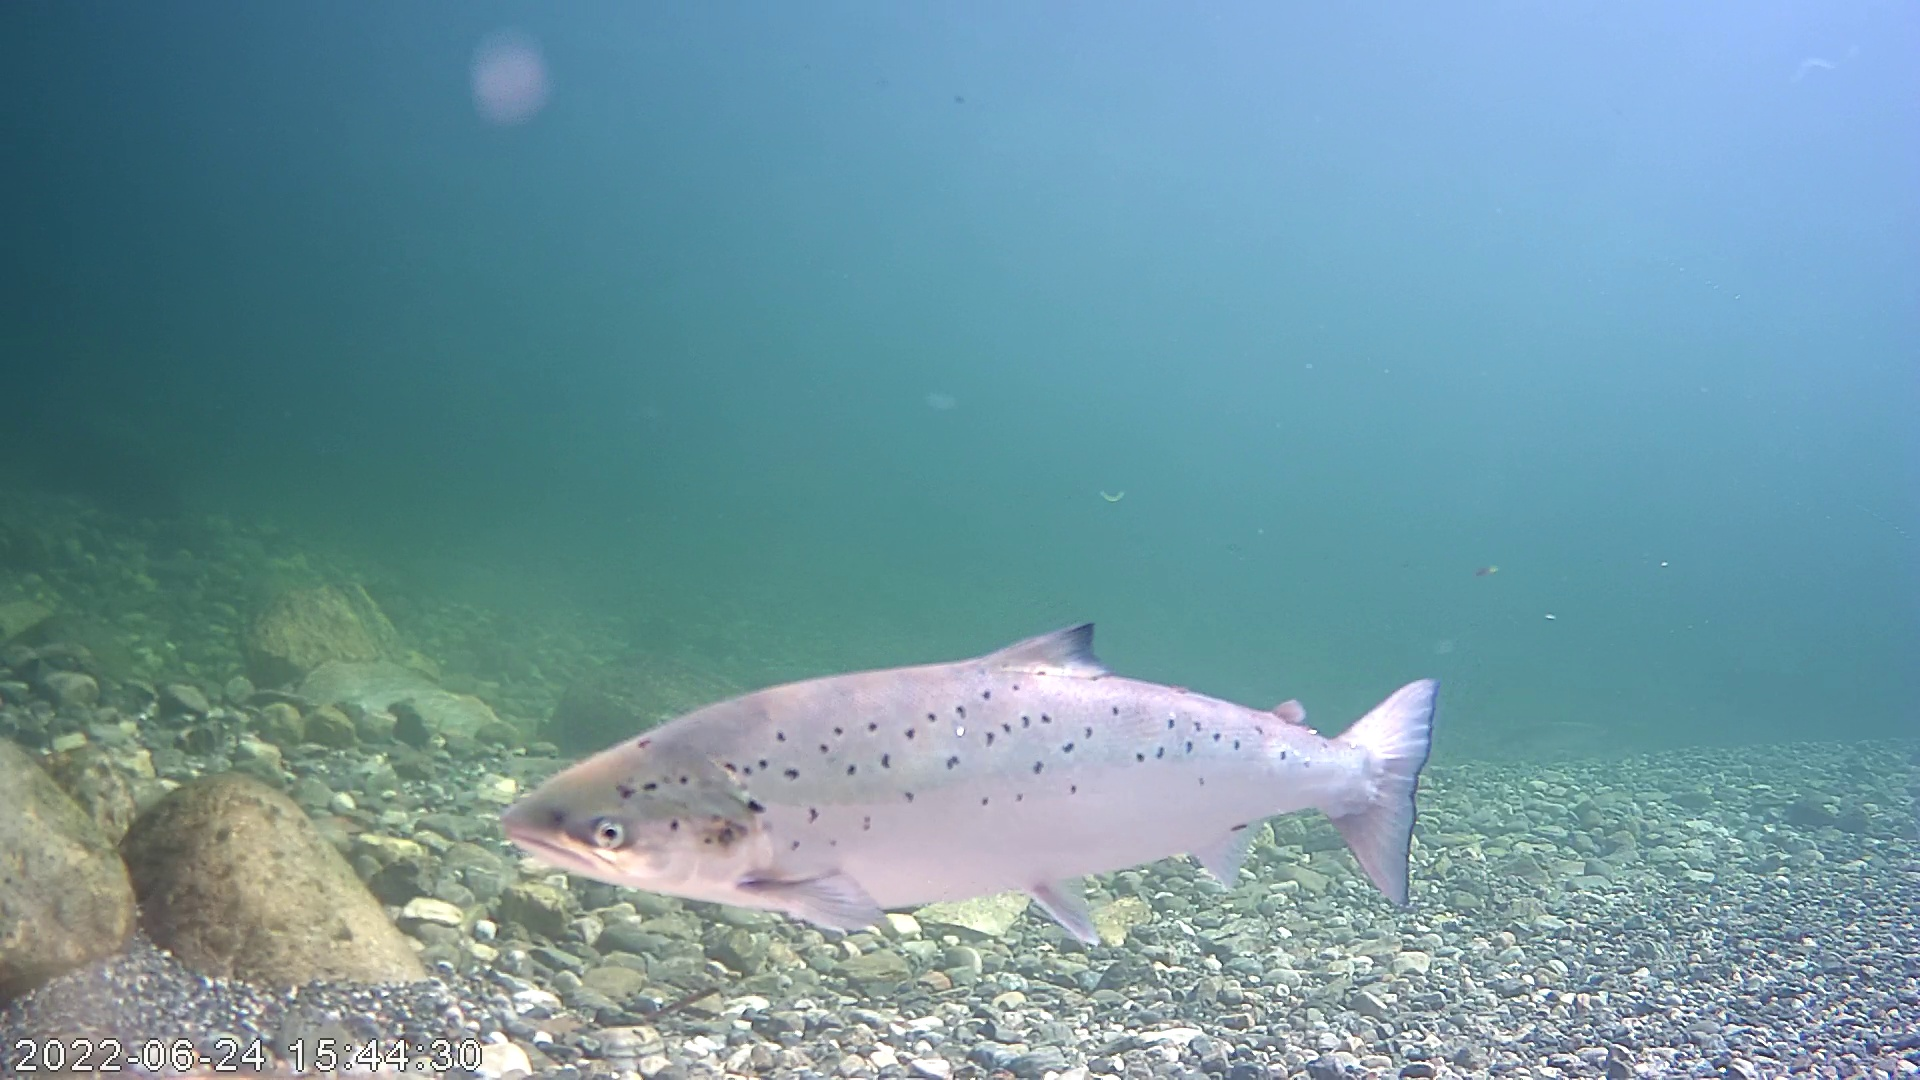salmon: (492, 621, 1443, 947)
